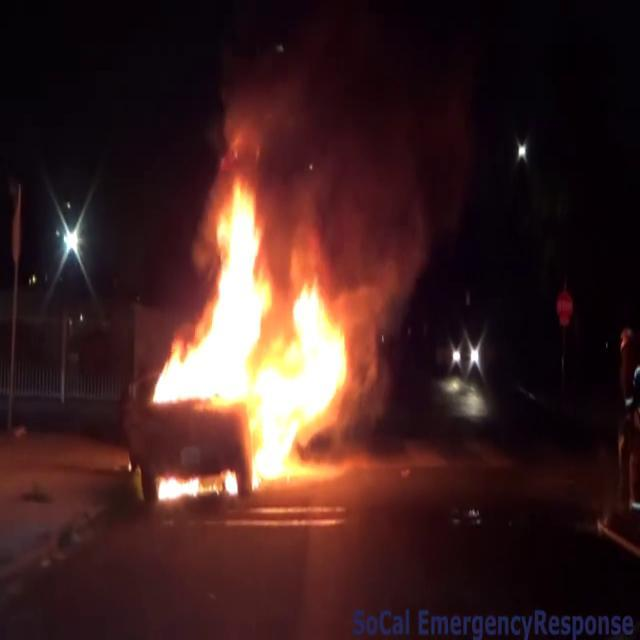Fire: (146, 119, 360, 493)
Smoke: (240, 0, 490, 314)
